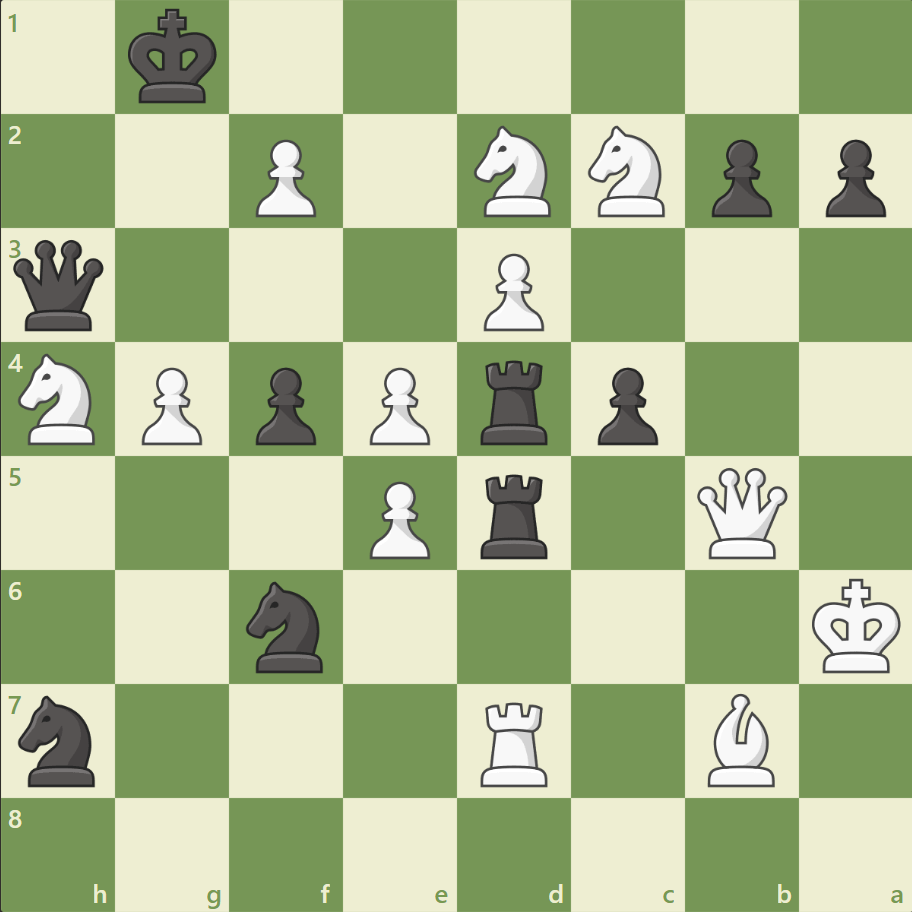B: (698, 687, 782, 790)
K: (806, 571, 906, 679)
N: (11, 348, 108, 450), (579, 121, 676, 223), (465, 121, 562, 223)
P: (133, 359, 208, 450), (474, 246, 549, 337), (247, 132, 322, 223), (361, 473, 435, 564), (361, 359, 435, 450)
Q: (691, 463, 790, 562)
R: (473, 693, 556, 790)
k: (124, 4, 224, 112)
n: (11, 688, 108, 791), (238, 575, 335, 677)
p: (247, 359, 322, 450), (701, 132, 776, 223), (588, 359, 662, 450), (815, 132, 889, 223)
q: (10, 236, 109, 335)
r: (473, 466, 556, 563), (473, 352, 556, 449)
